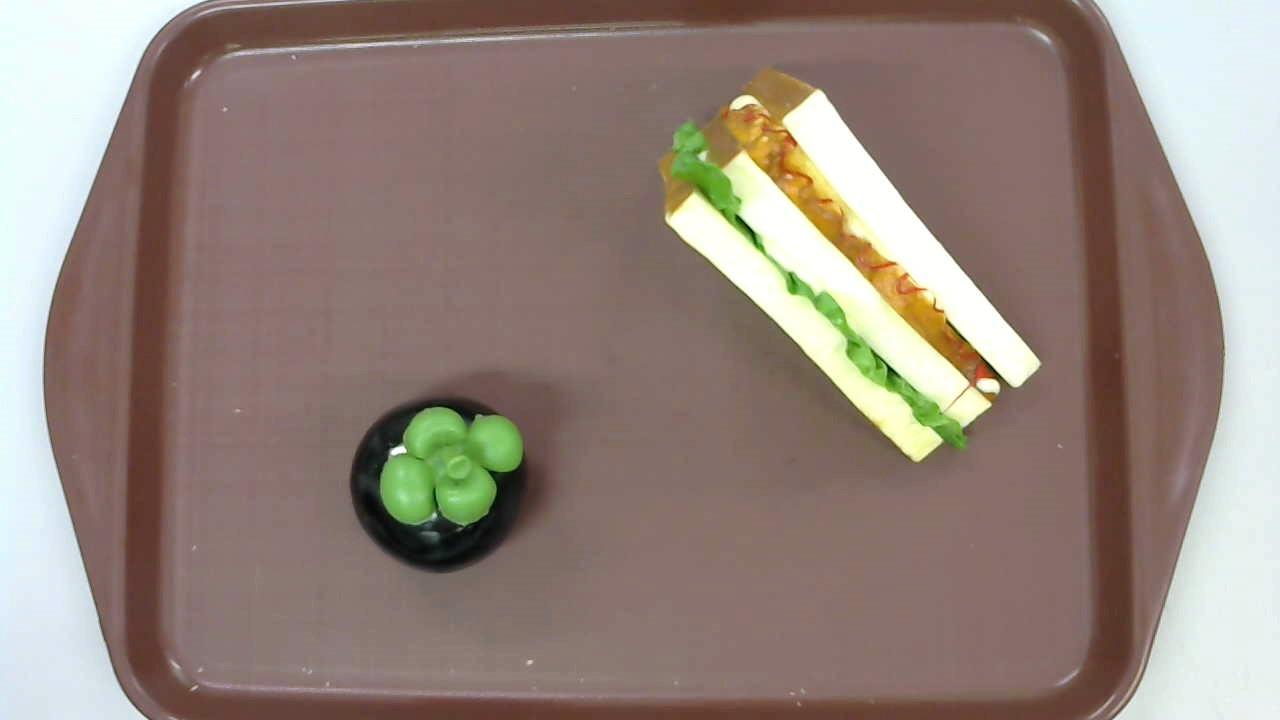mangosteen: (350, 396, 528, 573)
sandwich: (654, 66, 1044, 463)
